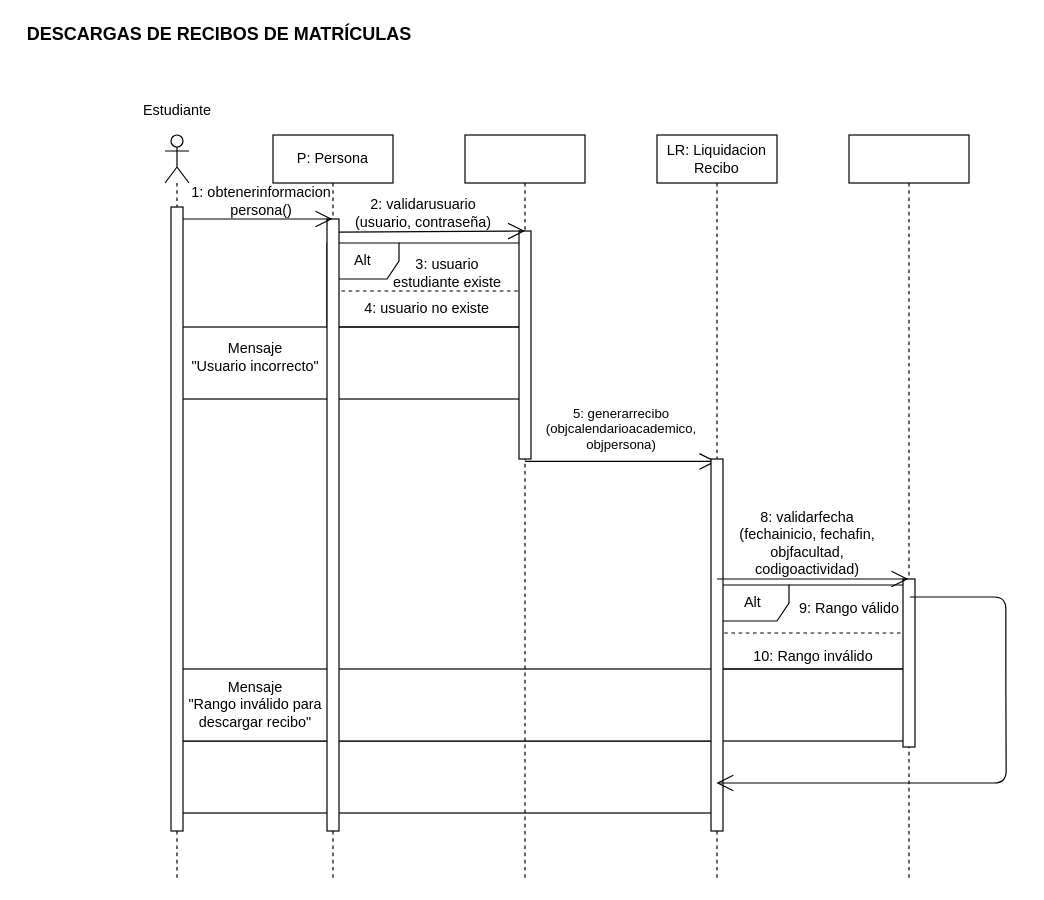
Some shapes in this 1044 by 900 pixel diagram are drawn without their labels. The box of each missing label's shape, as (x1, y1, x2, y2) in pixels:
11: Recibo descargado: (176, 740, 717, 813)
CA: Calendario académico: (848, 134, 969, 879)
LOG: Login: (464, 134, 585, 879)
